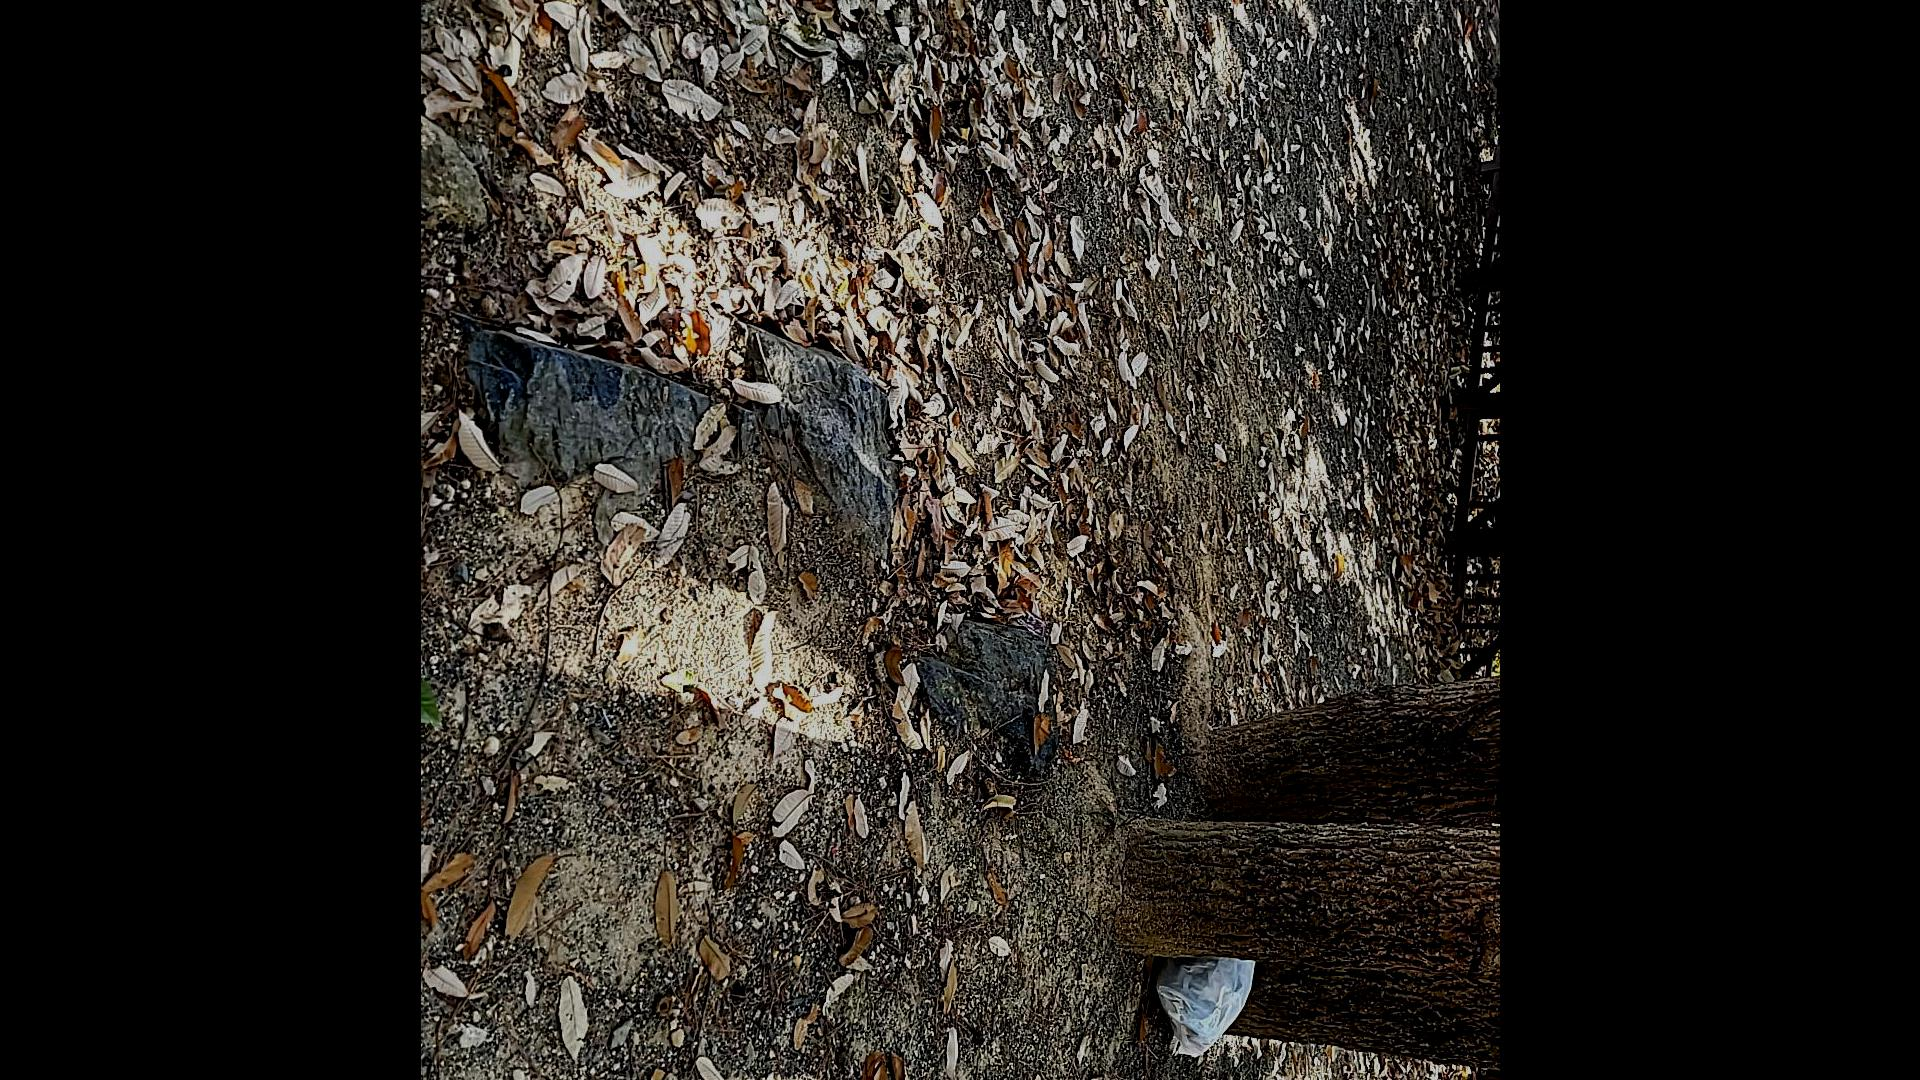white_bag: (1154, 949, 1261, 1062)
